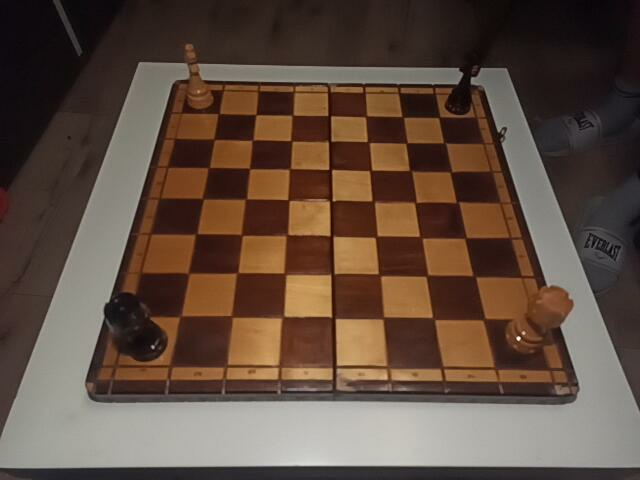B-Knight: (446, 49, 481, 115)
B-Rook: (103, 293, 167, 361)
W-Knight: (182, 41, 213, 108)
W-Rook: (506, 285, 574, 355)
